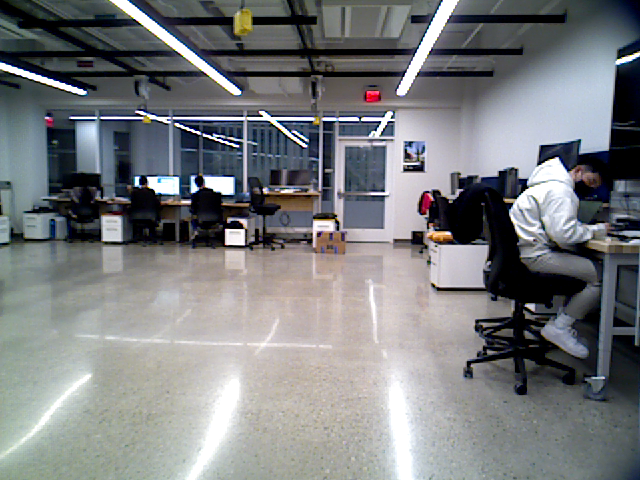painting3: (402, 141, 427, 173)
